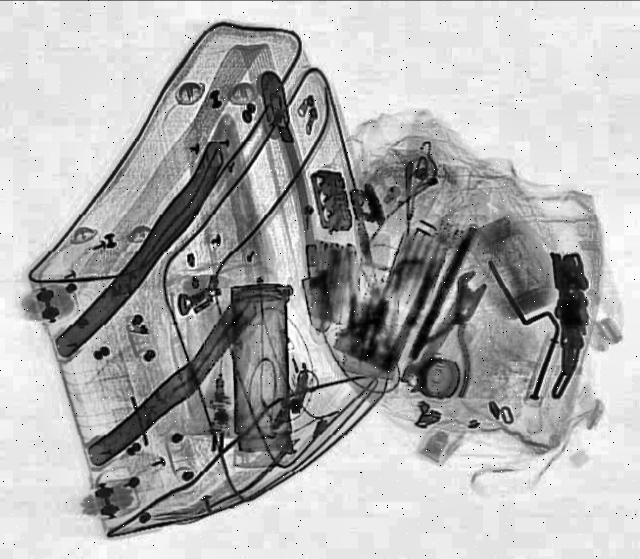Pliers: (398, 280, 506, 397)
Wrench: (396, 265, 496, 387)
